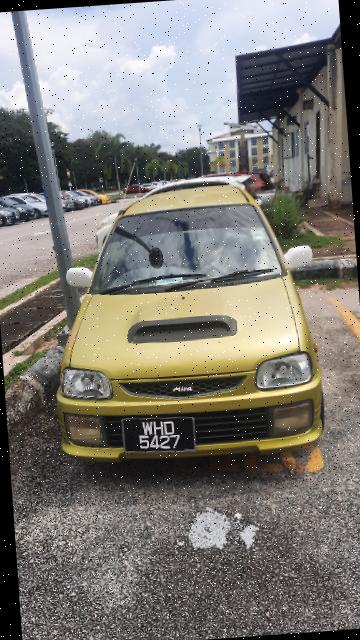License_Plate: (115, 410, 201, 460)
car: (32, 177, 337, 471)
